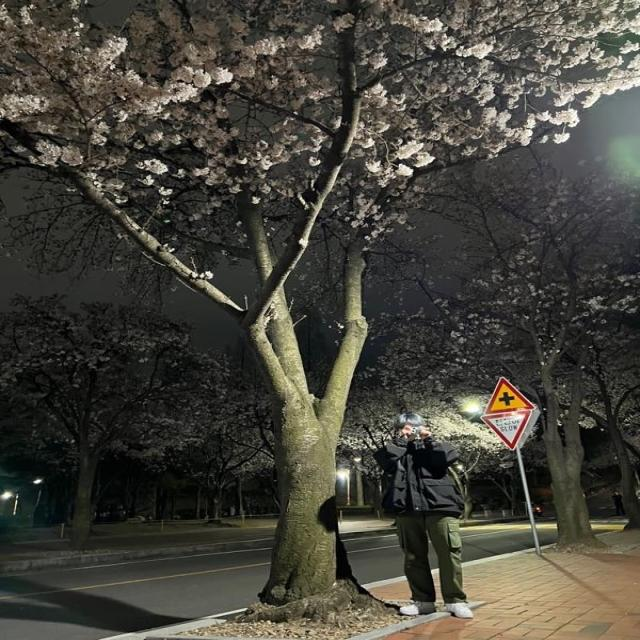cottonpants: (396, 515, 464, 601)
padding: (376, 435, 468, 520)
